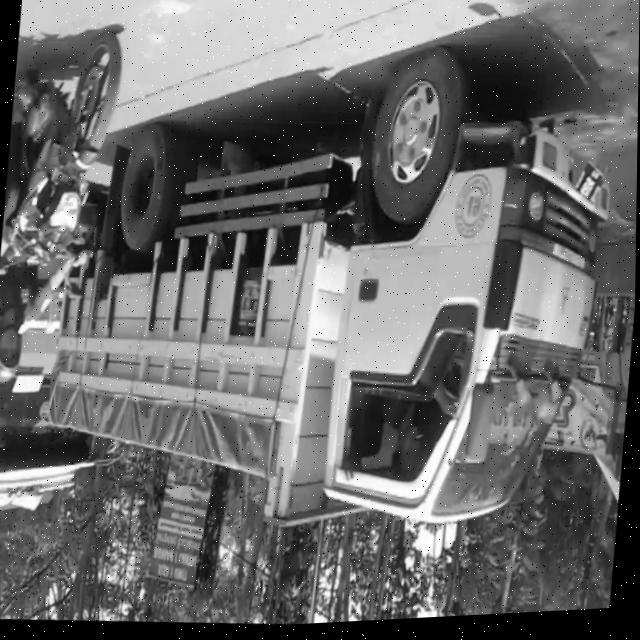truck: (291, 80, 637, 560)
